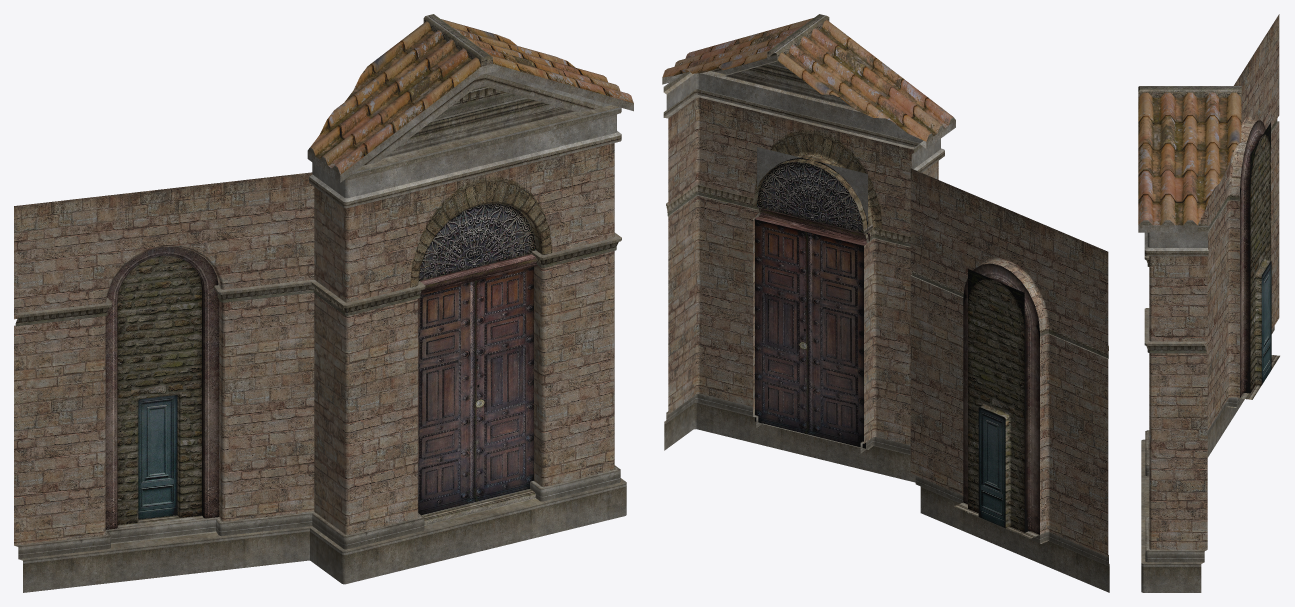
File: Tower7.fbx
The picture shows the model from 3 angles, left to right: view 1: azimuth 30°, elevation 25°; view 2: azimuth 150°, elevation 25°; view 3: azimuth 270°, elevation 25°; orthographic projection. The views are drawn at different scales.
Visible parts, largest first — view 1: LV_Campagna_Uni_CityH1FWall_SM_CJH; view 2: LV_Campagna_Uni_CityH1FWall_SM_CJH; view 3: LV_Campagna_Uni_CityH1FWall_SM_CJH.
Boxes of the visible parts, x1=… form: LV_Campagna_Uni_CityH1FWall_SM_CJH: x1=14, y1=14, x2=633, y2=592; LV_Campagna_Uni_CityH1FWall_SM_CJH: x1=662, y1=14, x2=1109, y2=592; LV_Campagna_Uni_CityH1FWall_SM_CJH: x1=1138, y1=14, x2=1279, y2=592.
Bounding box in the file's own units: 2.8 × 2.44 × 0.711.
Materials: 5 (5 with a texture image).
